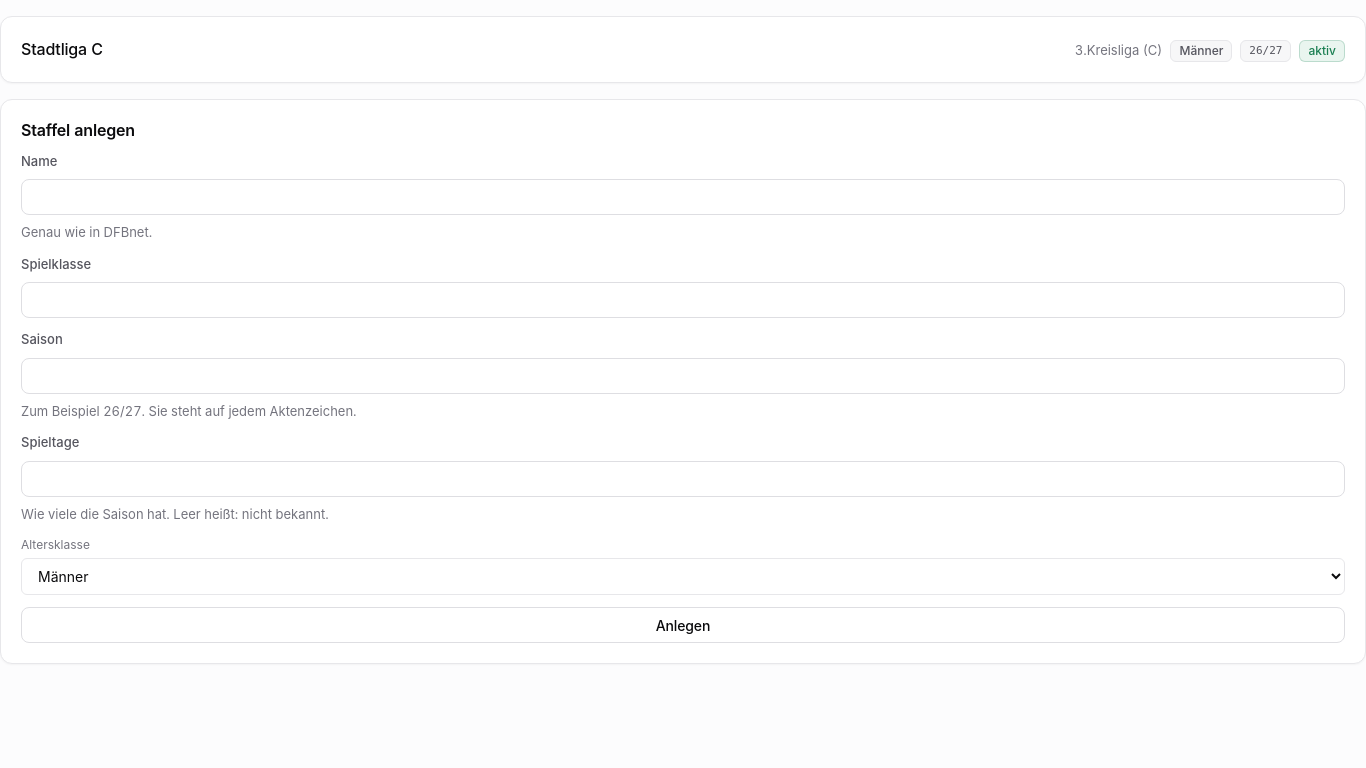
Test case: Staffeln › behält die Eingabe, wenn das Anlegen scheitert
Expected: the heading "Staffel anlegen" is shown, [21, 120, 135, 140]
Type "Stadtliga C" into the field labelled "Name".
click(683, 197); type("Stadtliga C")  # box [21, 179, 1345, 215]
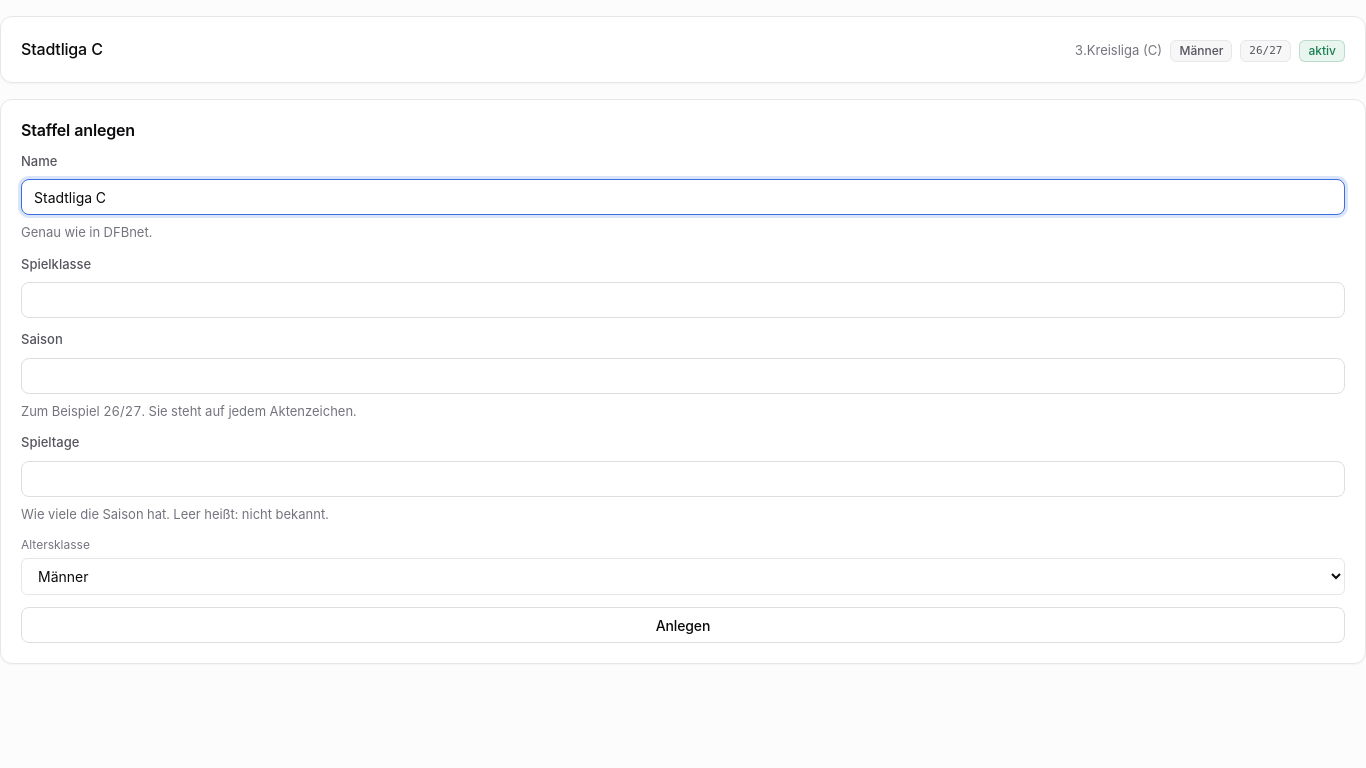
Type "3.Kreisliga (C)" into the field labelled "Spielklasse".
click(683, 300); type("3.Kreisliga (C)")  # box [21, 282, 1345, 318]
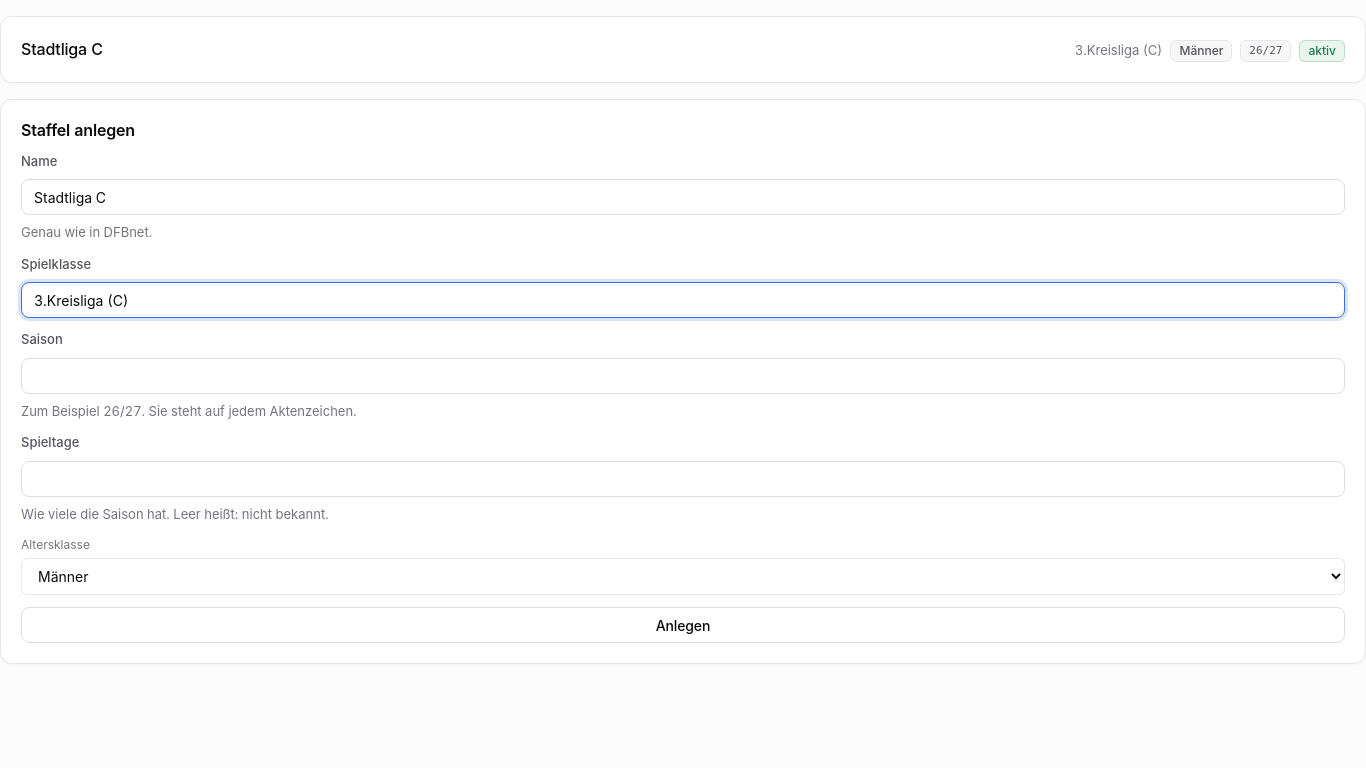
Click the button "Anlegen".
click(683, 625)  # box [21, 607, 1345, 643]
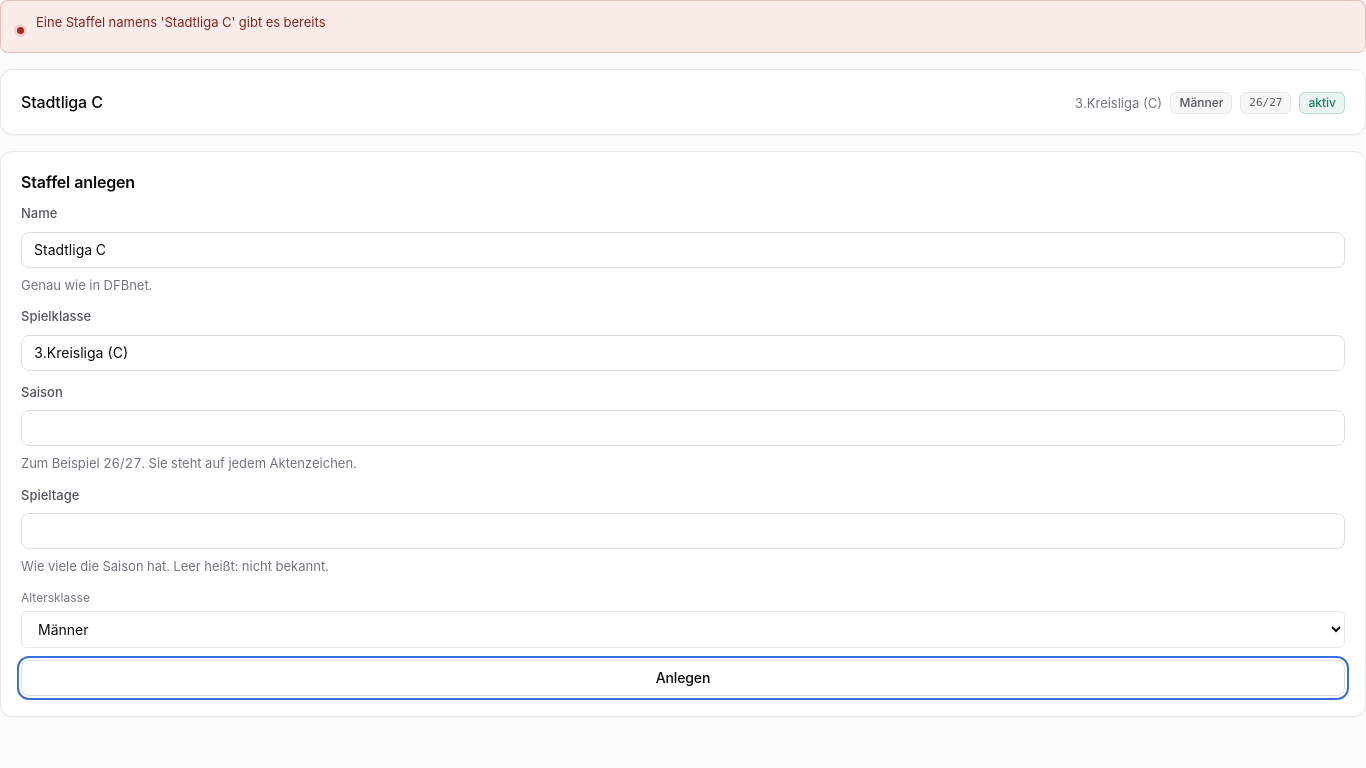
Expected: the text "Eine Staffel namens 'Stadtliga C' gibt es bereits" is shown, [36, 13, 326, 32]
